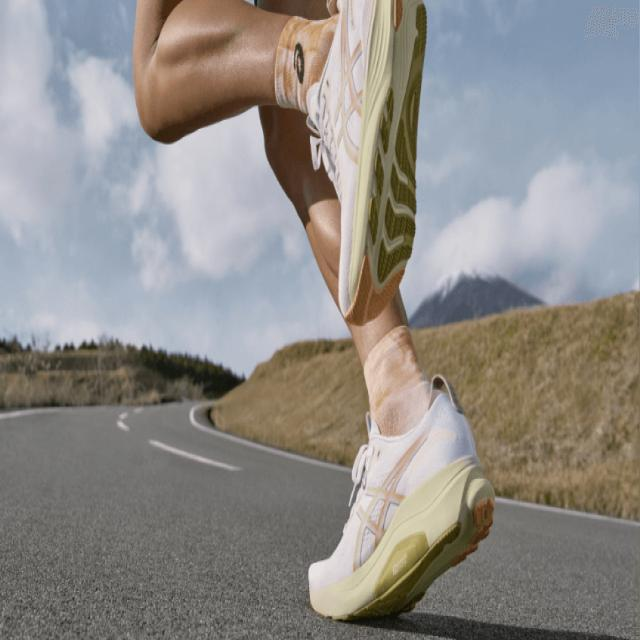asics logo: (347, 412, 440, 577), (327, 1, 369, 178)
sock logo: (274, 10, 339, 114)
